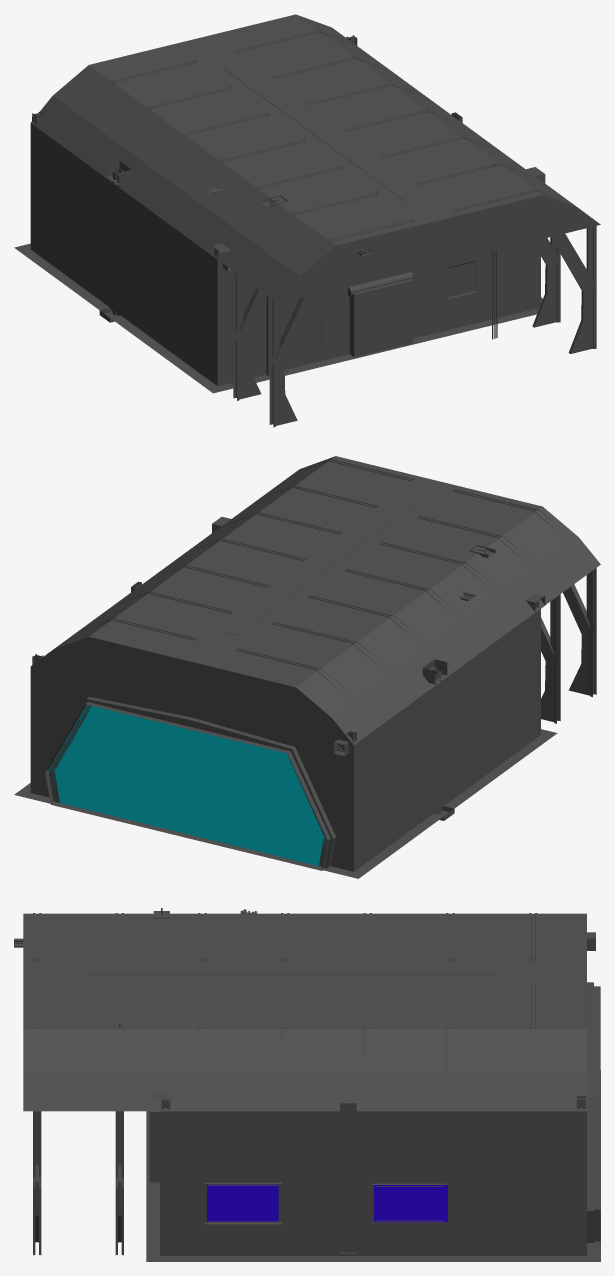
The model's file is FBX_BusShelterBuilding.fbx.
3 renders of one model, top to bottom at view 1: azimuth 30°, elevation 25°; view 2: azimuth 150°, elevation 25°; view 3: azimuth 270°, elevation 25°, orthographic. The views are drawn at different scales.
Visible parts, largest first — view 1: Warehouse, Buttresses, Gantry, Pipes; view 2: Warehouse, Buttresses, Gantry; view 3: Warehouse, Gantry, Buttresses, Pipes.
Part boxes in pixels (x1,y1,x2,y2): Warehouse: [14, 14, 600, 393]; Buttresses: [81, 30, 596, 427]; Gantry: [224, 65, 418, 201]; Pipes: [112, 113, 497, 339]; Warehouse: [14, 456, 600, 878]; Buttresses: [83, 458, 596, 723]; Gantry: [224, 499, 418, 635]; Warehouse: [23, 911, 600, 1261]; Gantry: [84, 967, 500, 974]; Buttresses: [33, 913, 537, 1255]; Pipes: [118, 908, 351, 1255].
Size of the model in its own units: 10984 by 5459 by 14197.
